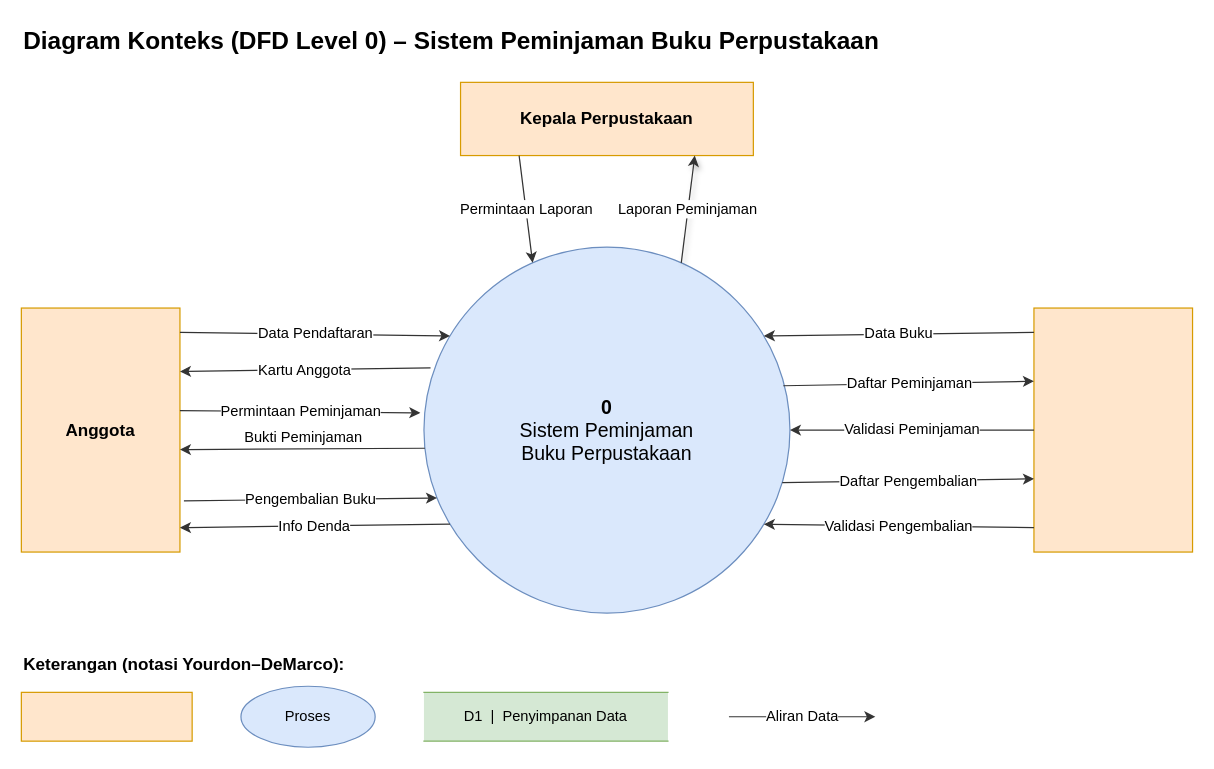
Image size: 1214x769. Some labels were removed from this diagram. Each missing label, with the centre of its shape:
Entitas Eksternal: the point at 106,716
Petugas Perpustakaan: the point at 1113,429
